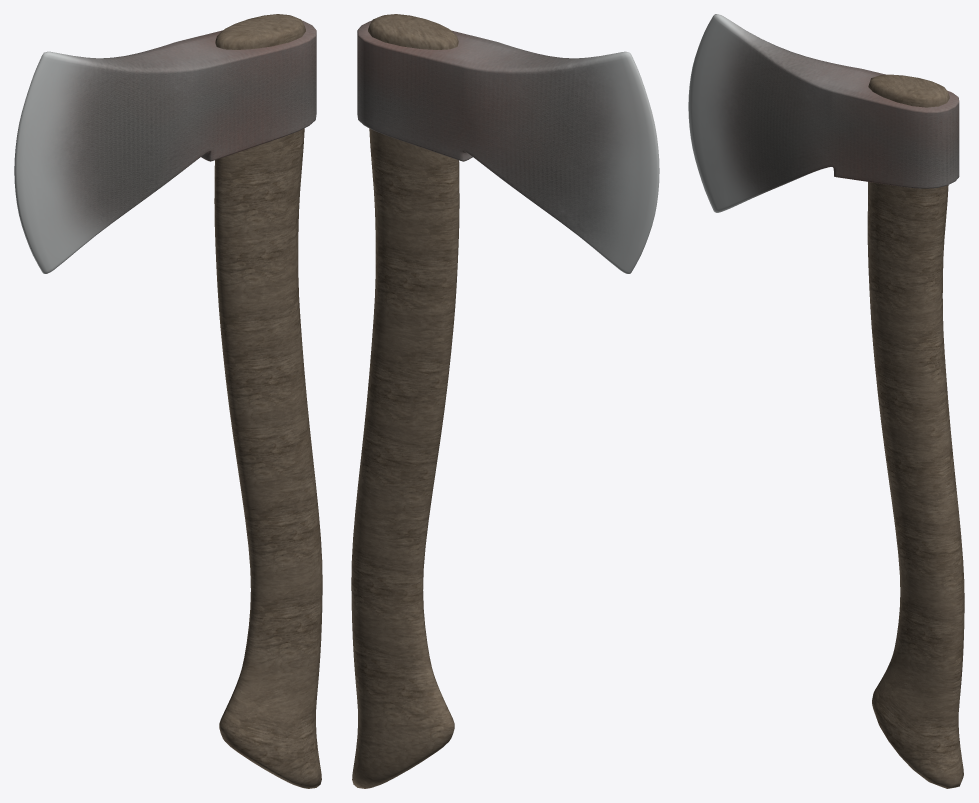
Rendered from AxeComplete.fbx.
3 views of the same model, side by side, from view 1: azimuth 30°, elevation 25°; view 2: azimuth 150°, elevation 25°; view 3: azimuth 330°, elevation 25° (orthographic). The views are drawn at different scales.
Parts seen in each view (by area): view 1: AxeHandle, AxeHead; view 2: AxeHandle, AxeHead; view 3: AxeHandle, AxeHead.
Boxes of the visible parts, bbox=[...] form: AxeHandle: bbox=[214, 14, 322, 788]; AxeHead: bbox=[14, 20, 316, 273]; AxeHandle: bbox=[351, 14, 459, 788]; AxeHead: bbox=[357, 20, 659, 273]; AxeHandle: bbox=[867, 74, 964, 788]; AxeHead: bbox=[688, 14, 959, 212].
Size of the model in its own units: 35.88 by 89.65 by 7.1.
Materials: 2 (2 with a texture image).
